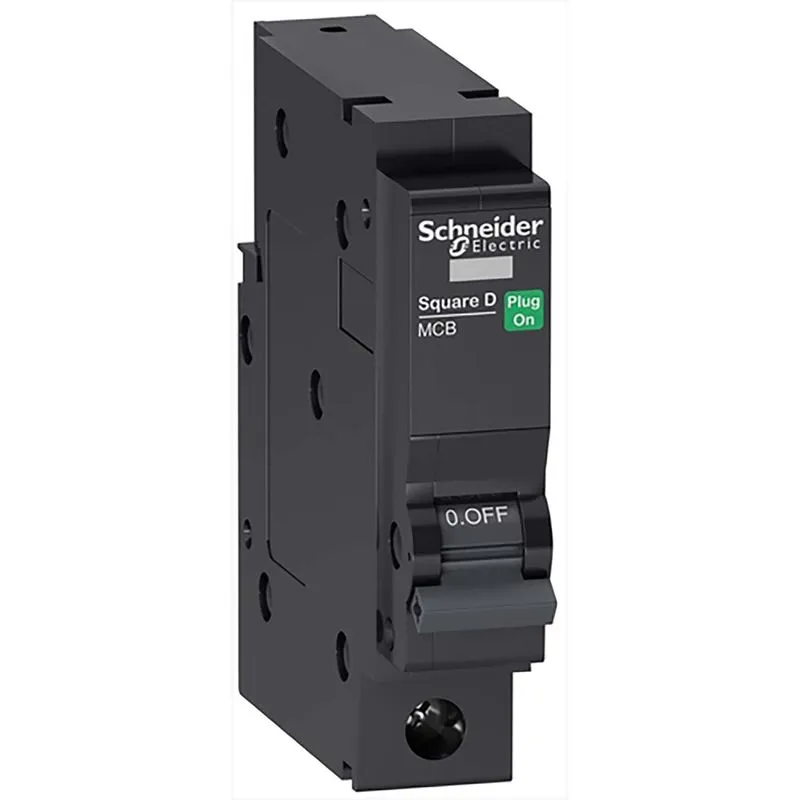BREACKER: (225, 6, 564, 794)
